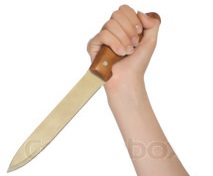knife: (3, 4, 162, 174)
